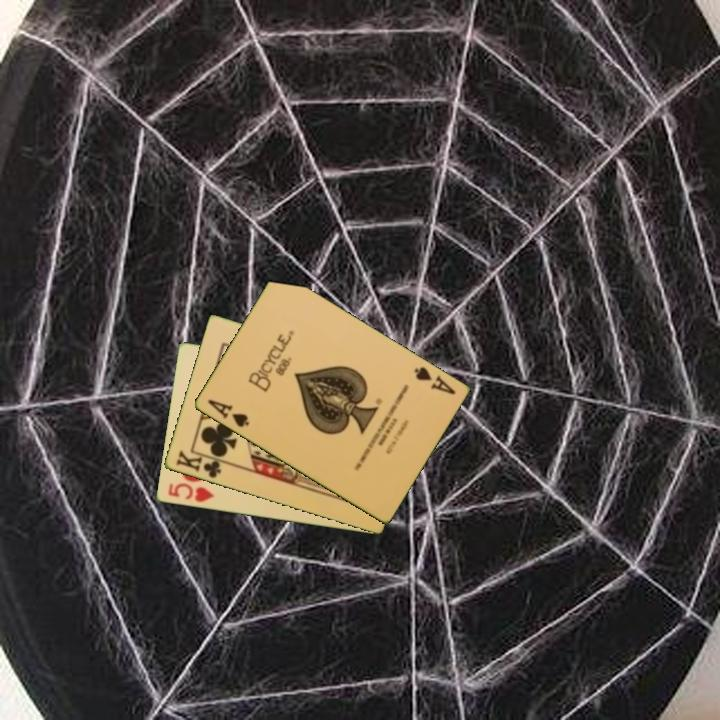5h: (164, 480, 217, 505)
As: (203, 396, 252, 431), (410, 363, 458, 398)
Kc: (172, 447, 229, 481)
